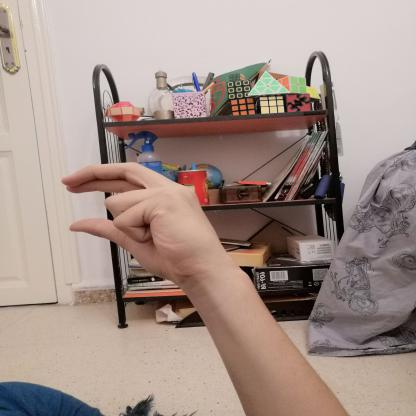DHELL: (48, 152, 235, 288)
